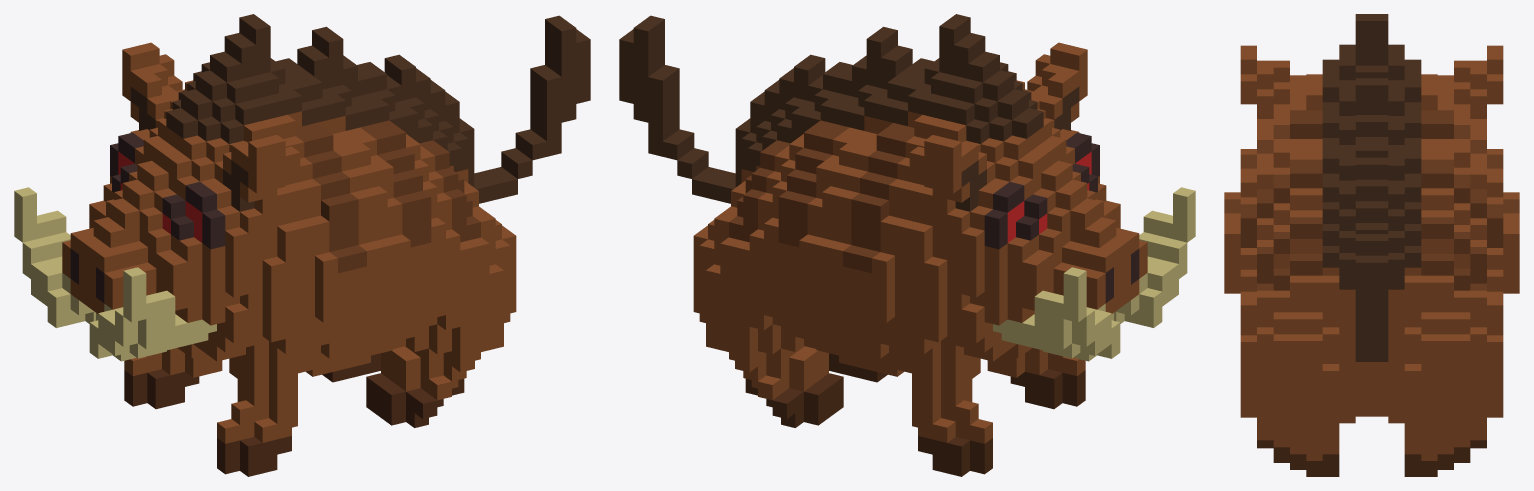
File: pig-0.obj
3 renders of one model, left to right at view 1: azimuth 30°, elevation 25°; view 2: azimuth 150°, elevation 25°; view 3: azimuth 270°, elevation 25°, orthographic. The views are drawn at different scales.
Bounding box in the file's own units: 3.5 × 2.6 × 1.8.
Materials: 1 (1 with a texture image).
